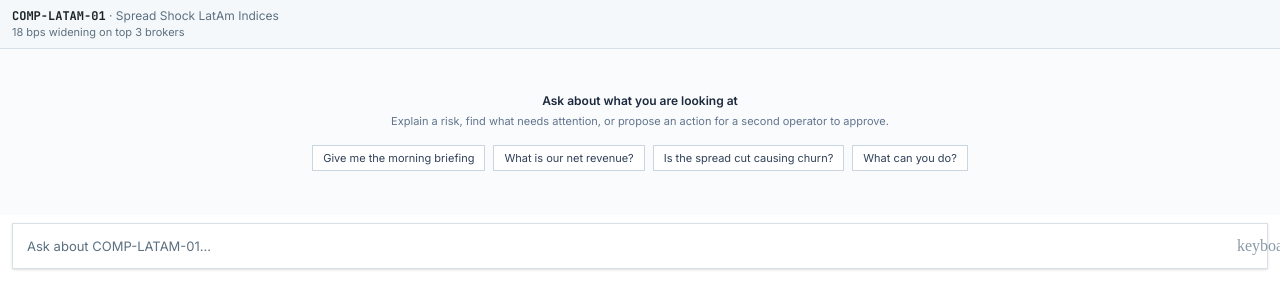
Test: the copilot chat never fabricates an answer › shows an explicit error when the request itself fails
Type "anything" into the text box named "Ask the copilot" at (621, 246), box [13,224,1229,268]
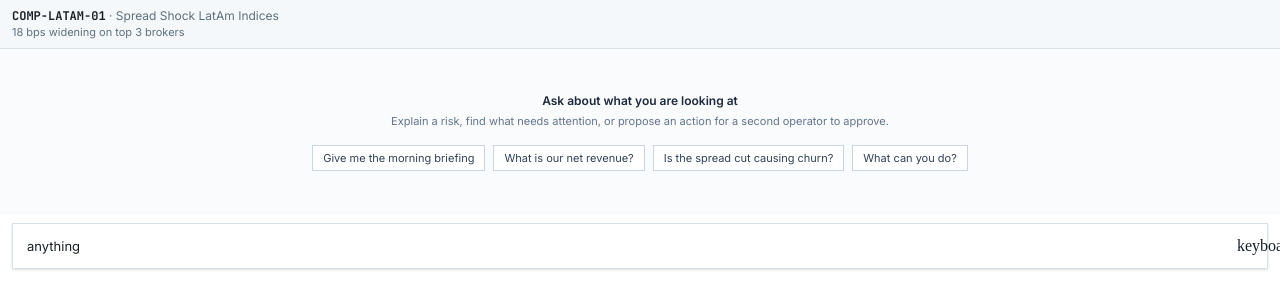
Submit the form named "Ask the copilot", box [0,215,1279,281]
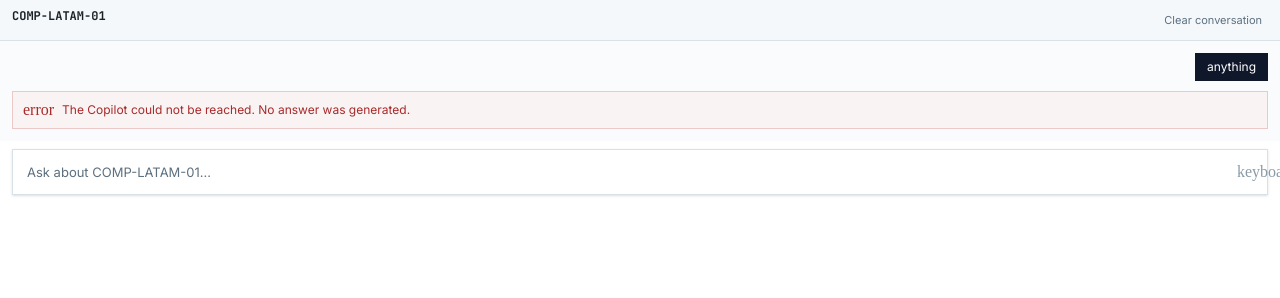
Expected: the message shows "could not be reached", [62,102,410,117]
